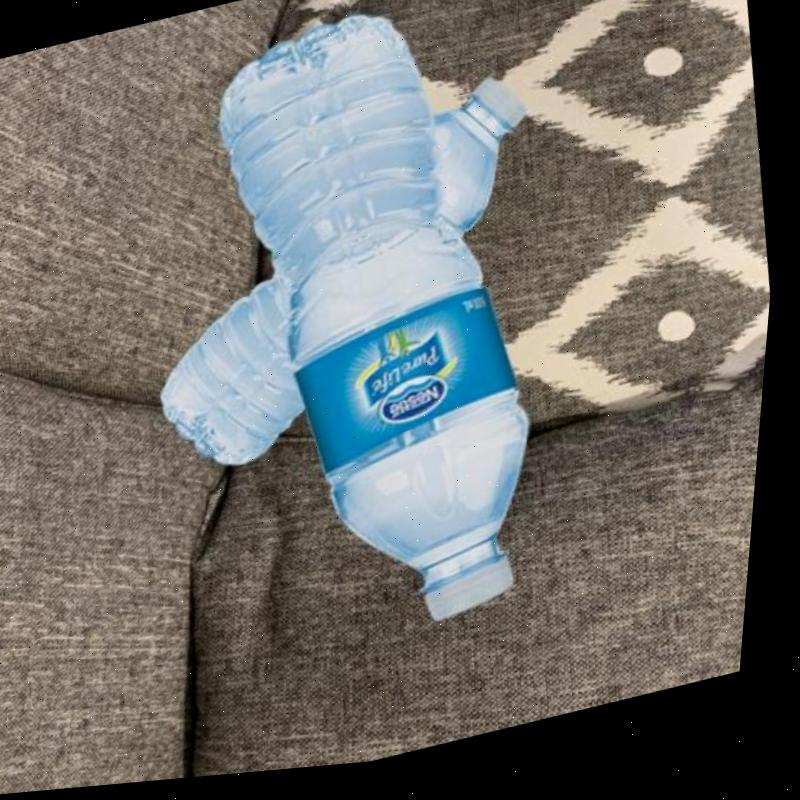botella: (165, 0, 595, 682), (123, 74, 577, 491)
